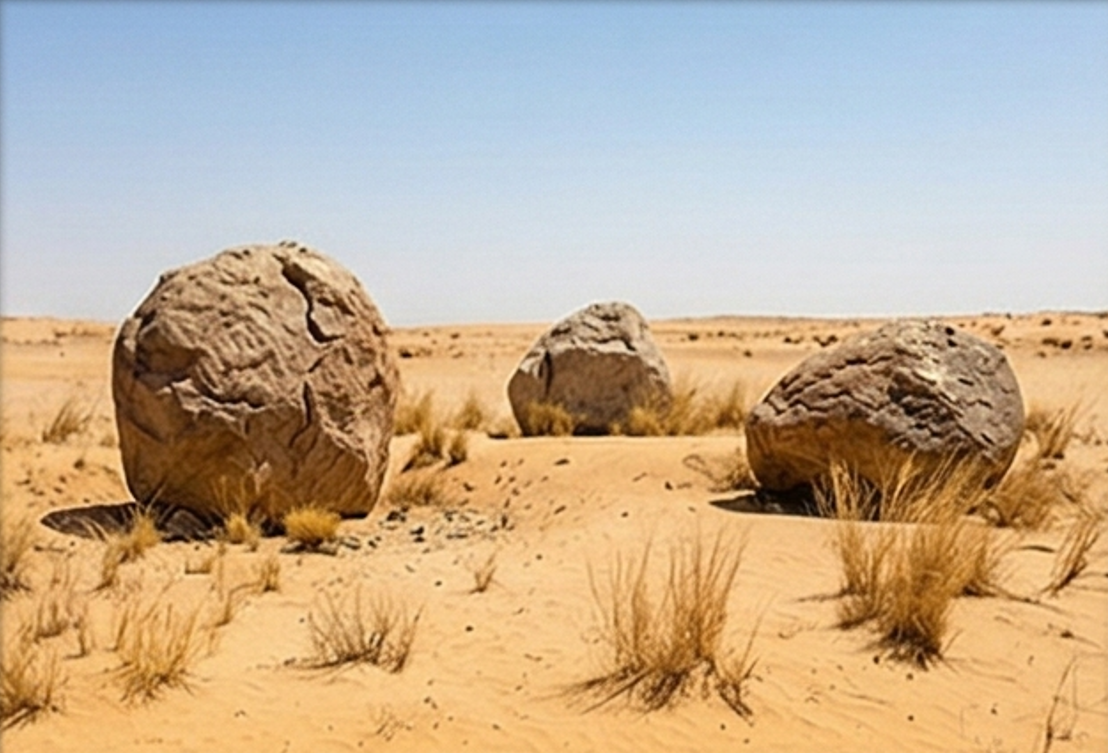rocks: (113, 244, 396, 514), (744, 320, 1024, 491), (509, 302, 672, 433)
